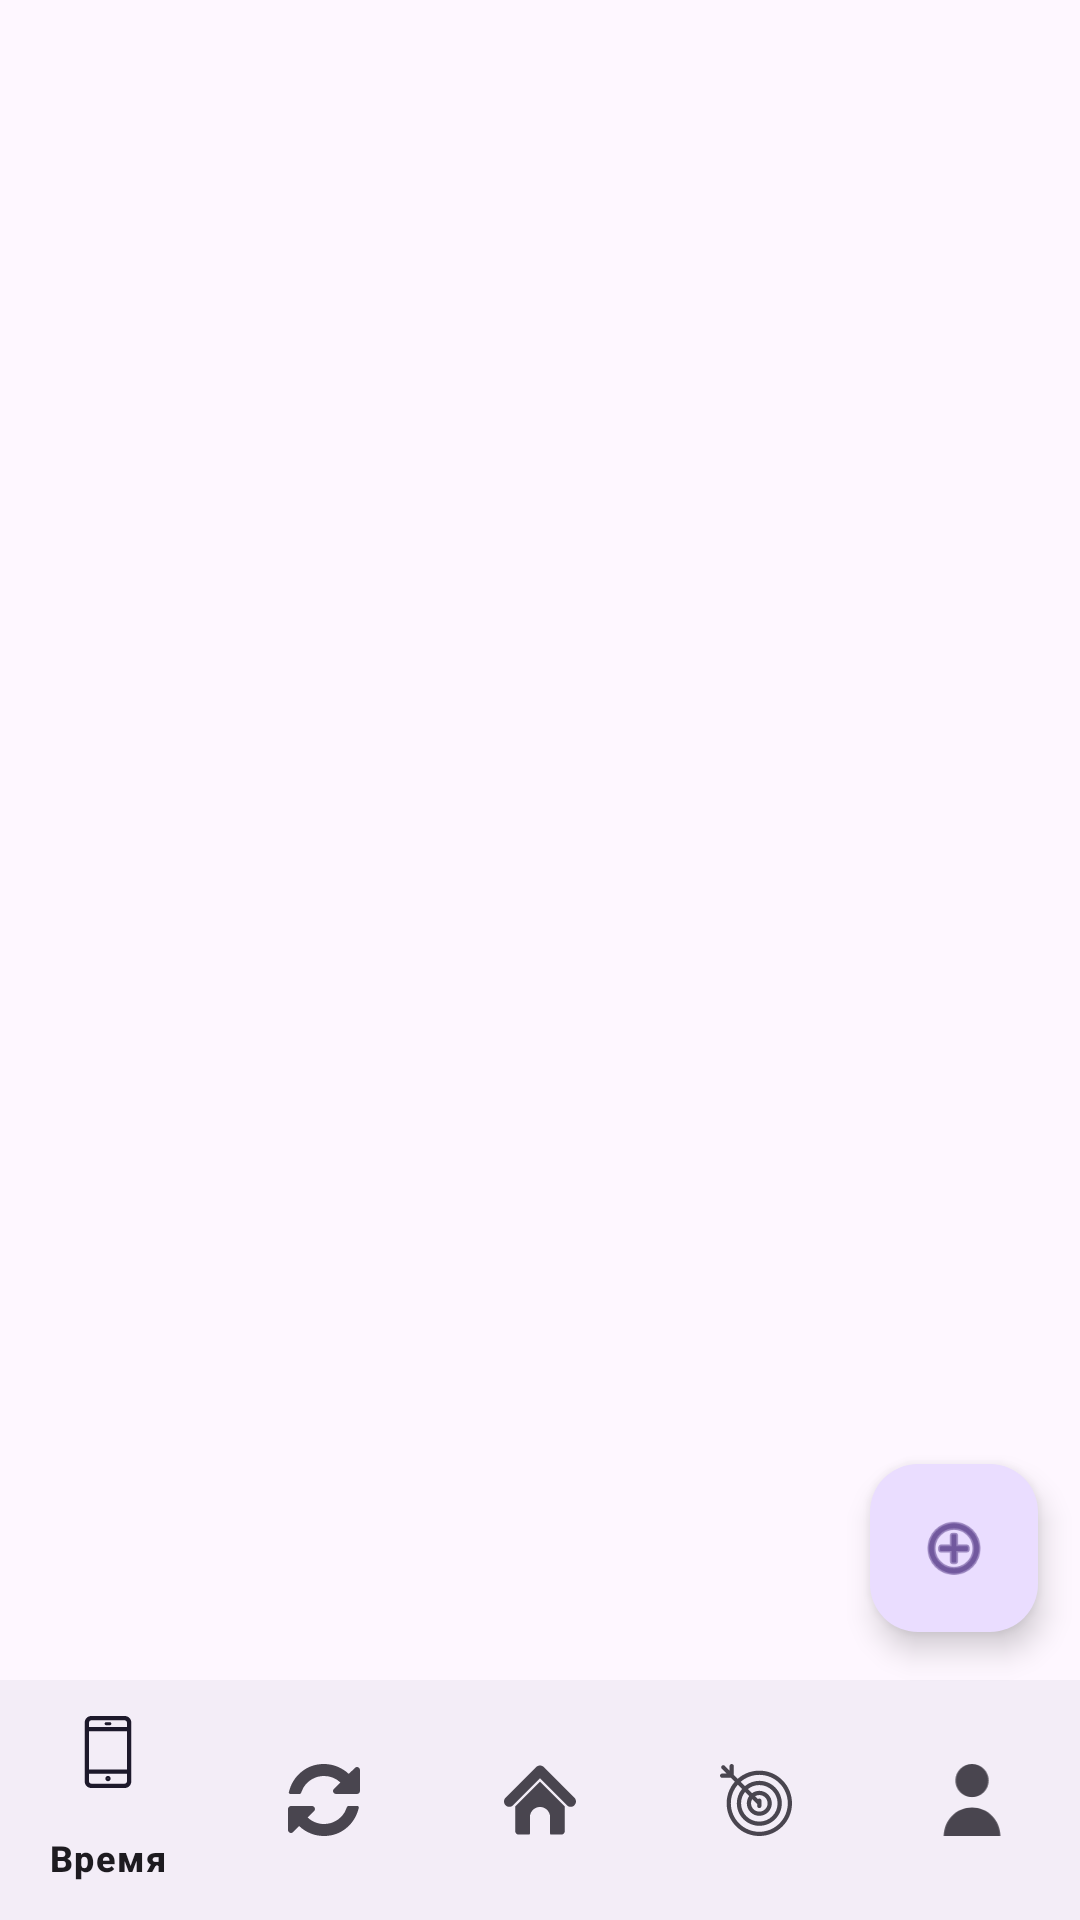

Icon click points for this 1080×1920 phone screenshot, format [x,y]:
add: [954,1548]
